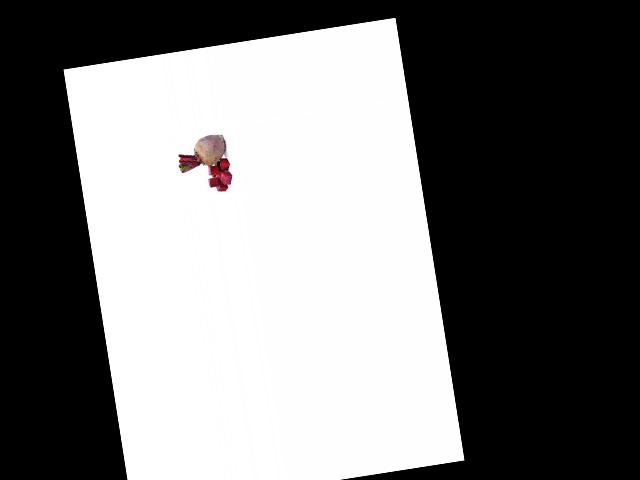beet: (175, 133, 229, 173)
